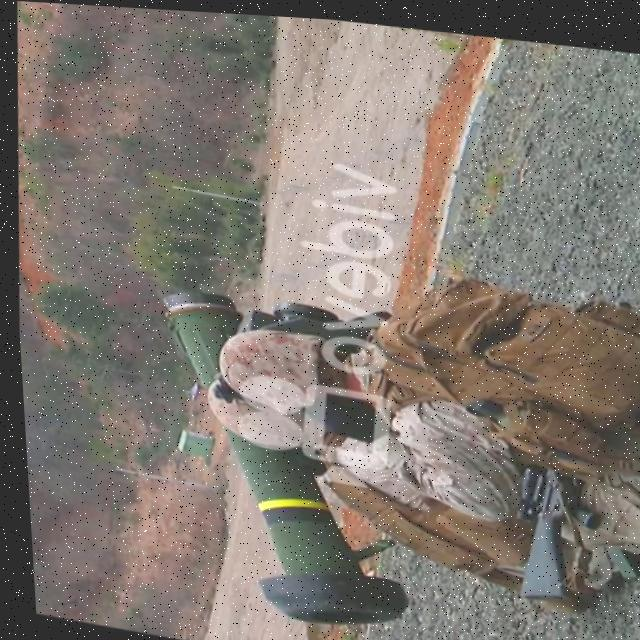rocket: (119, 287, 432, 637)
